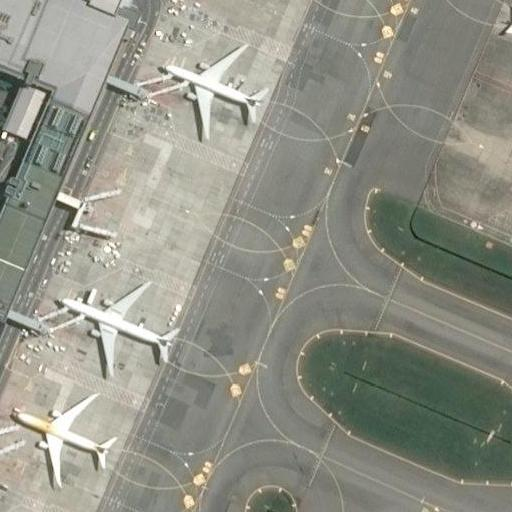Aircraft: (55, 277, 179, 377), (157, 43, 270, 139), (7, 389, 121, 484), (498, 0, 512, 84)
